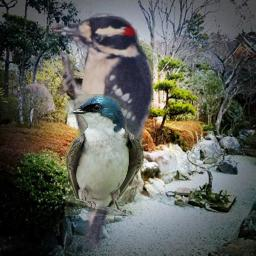Swallow: (65, 94, 144, 216)
Woodpecker: (52, 10, 158, 249)
